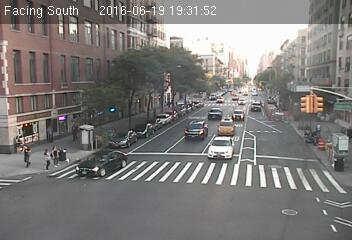neg: (81, 128, 102, 156), (64, 148, 84, 173), (12, 102, 31, 127), (88, 162, 107, 187), (128, 109, 145, 132), (129, 157, 145, 178), (46, 172, 60, 190), (31, 116, 44, 134), (53, 118, 65, 134), (109, 134, 121, 150), (109, 110, 121, 126)
pos: (15, 140, 38, 170), (38, 146, 56, 171), (46, 144, 64, 168), (9, 132, 24, 153), (67, 122, 81, 142)
